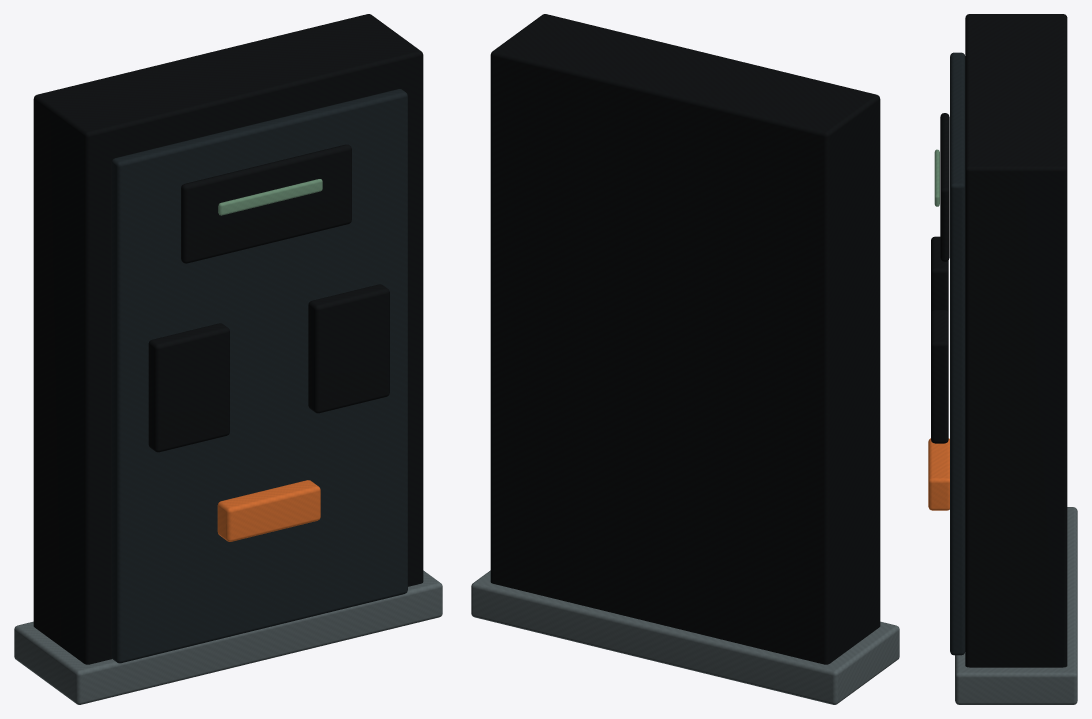
File: WallChargingStation.glb
3 renders of one model, left to right at view 1: azimuth 30°, elevation 25°; view 2: azimuth 150°, elevation 25°; view 3: azimuth 270°, elevation 25°, orthographic. The views are drawn at different scales.
Visible parts, largest first — view 1: WallChargingStation_Mesh; view 2: WallChargingStation_Mesh; view 3: WallChargingStation_Mesh.
Part boxes in pixels (x1=…): WallChargingStation_Mesh: x1=14, y1=14, x2=442, y2=704; WallChargingStation_Mesh: x1=471, y1=14, x2=899, y2=704; WallChargingStation_Mesh: x1=928, y1=14, x2=1077, y2=704.
Size of the model in its own units: 0.78 by 1.15 by 0.2925.
Materials: 5 (5 with a texture image).
